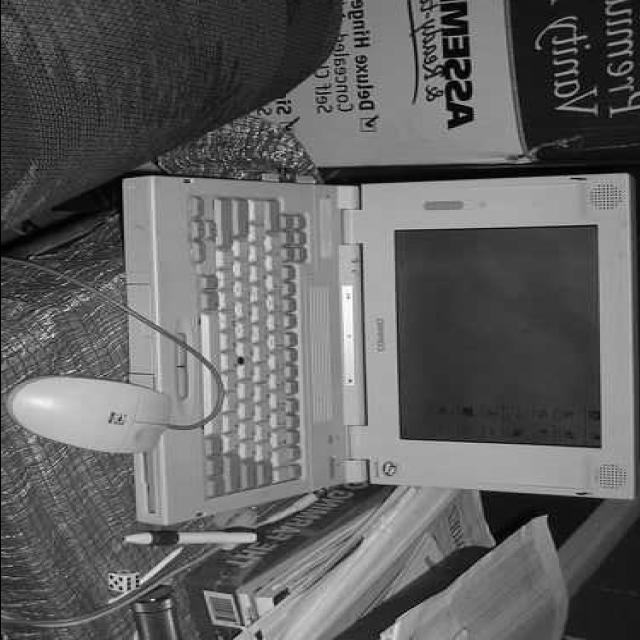laptop: (132, 175, 630, 499)
